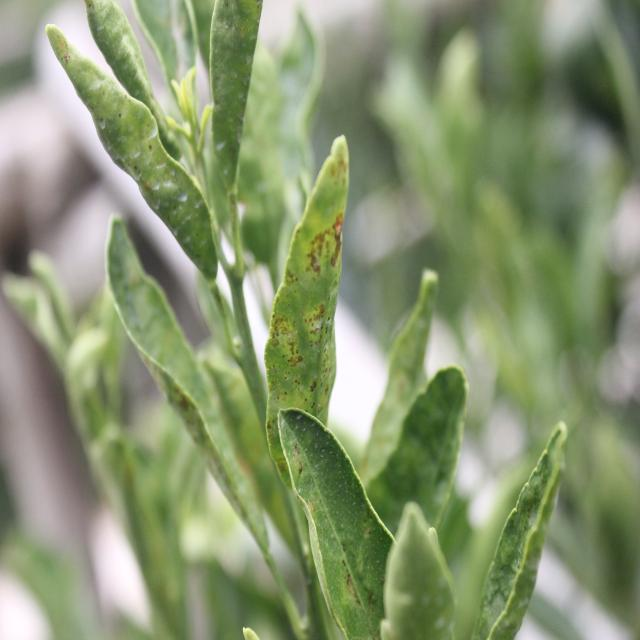canker: (260, 173, 348, 464), (289, 428, 385, 635)
